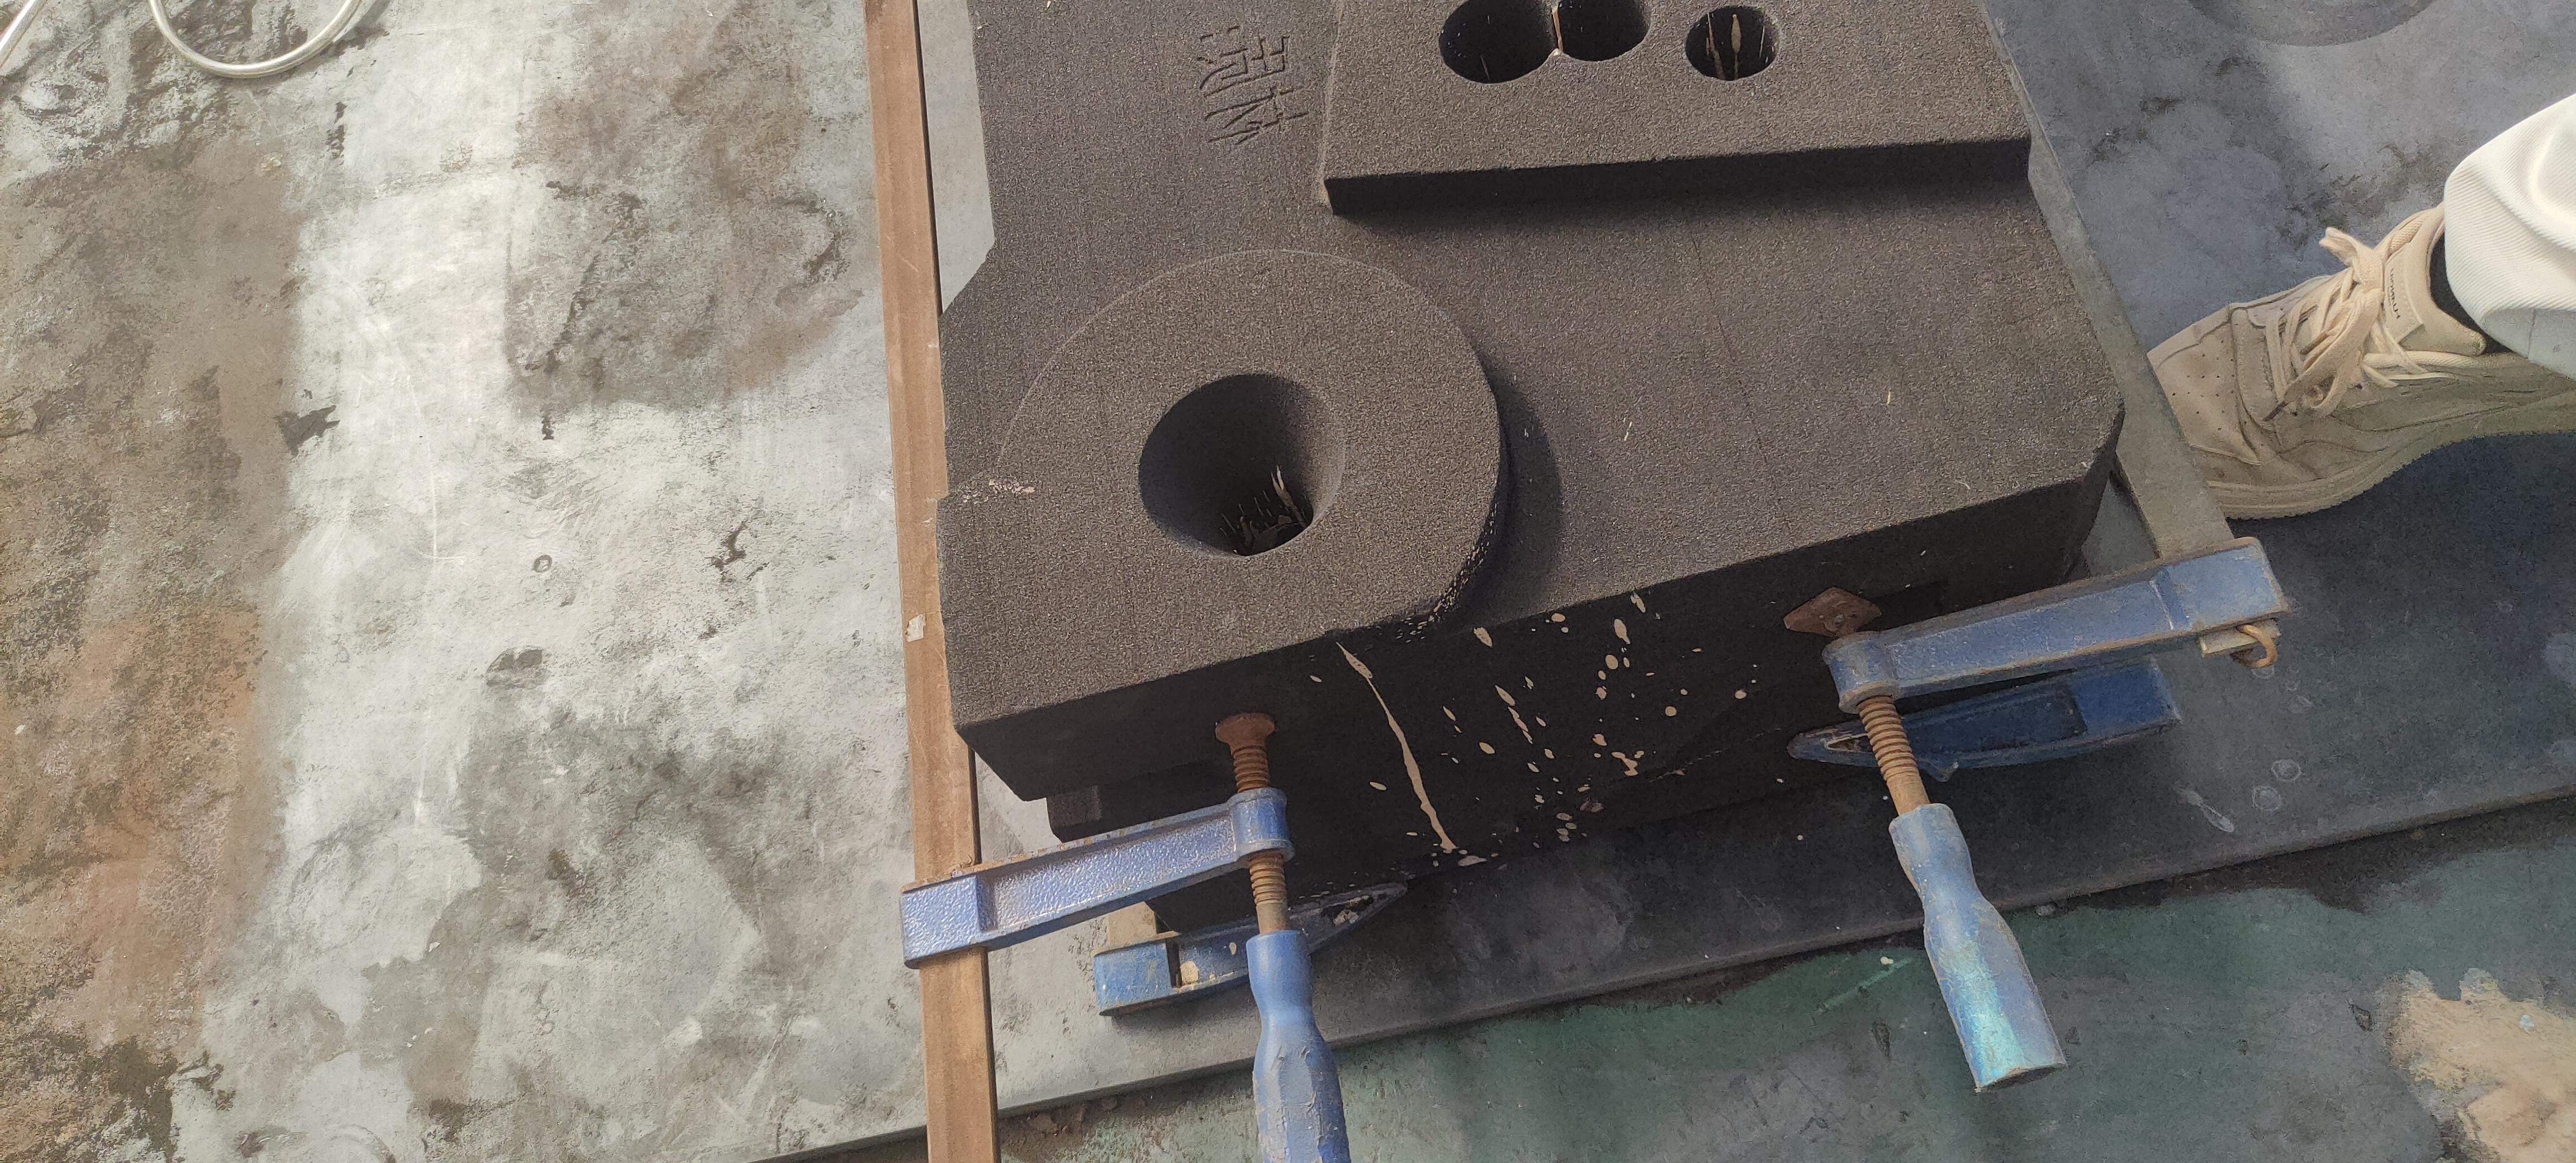pouring hole: (1137, 373, 1346, 562)
